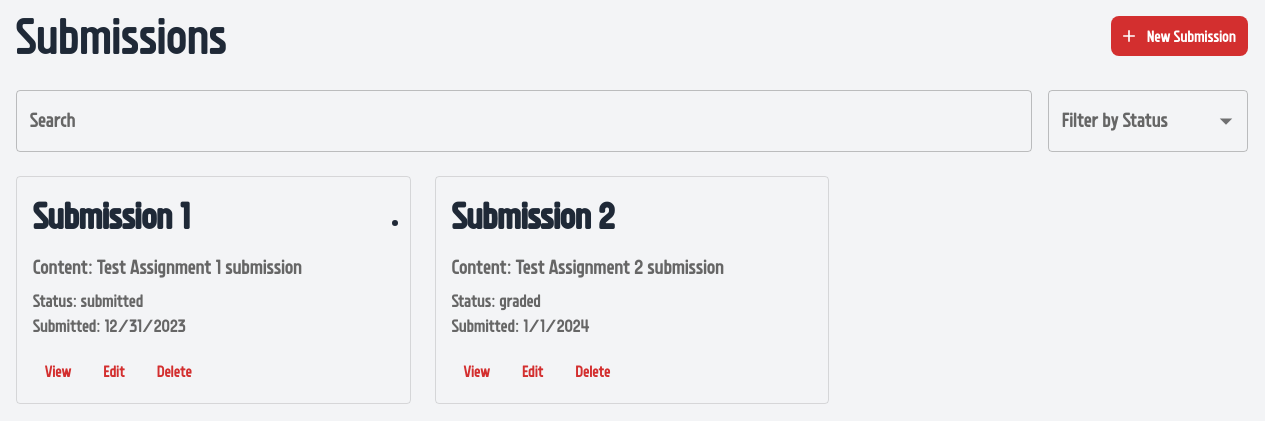
Scenario: SubmissionList › Filtering and Sorting › filters submissions by status
Trigger change event directly with the new value
Replace the text in the field with test id "select" with "submitted" at (1148, 121), box [1048,90,1248,152]
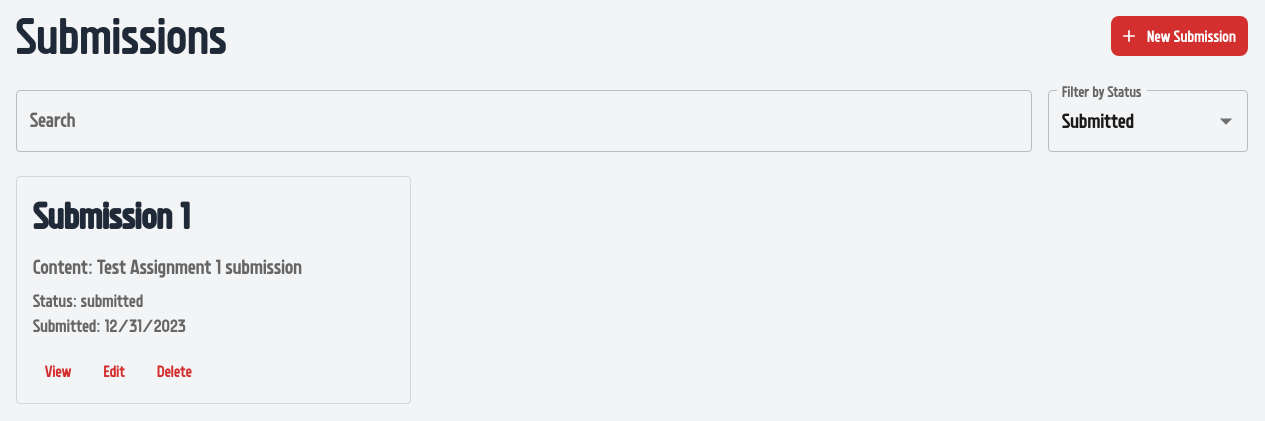
Expected: the text "Content: Test Assignment 1 submission" is shown, [33,255,302,278]
Now the text "Content: Test Assignment 2 submission" is gone
